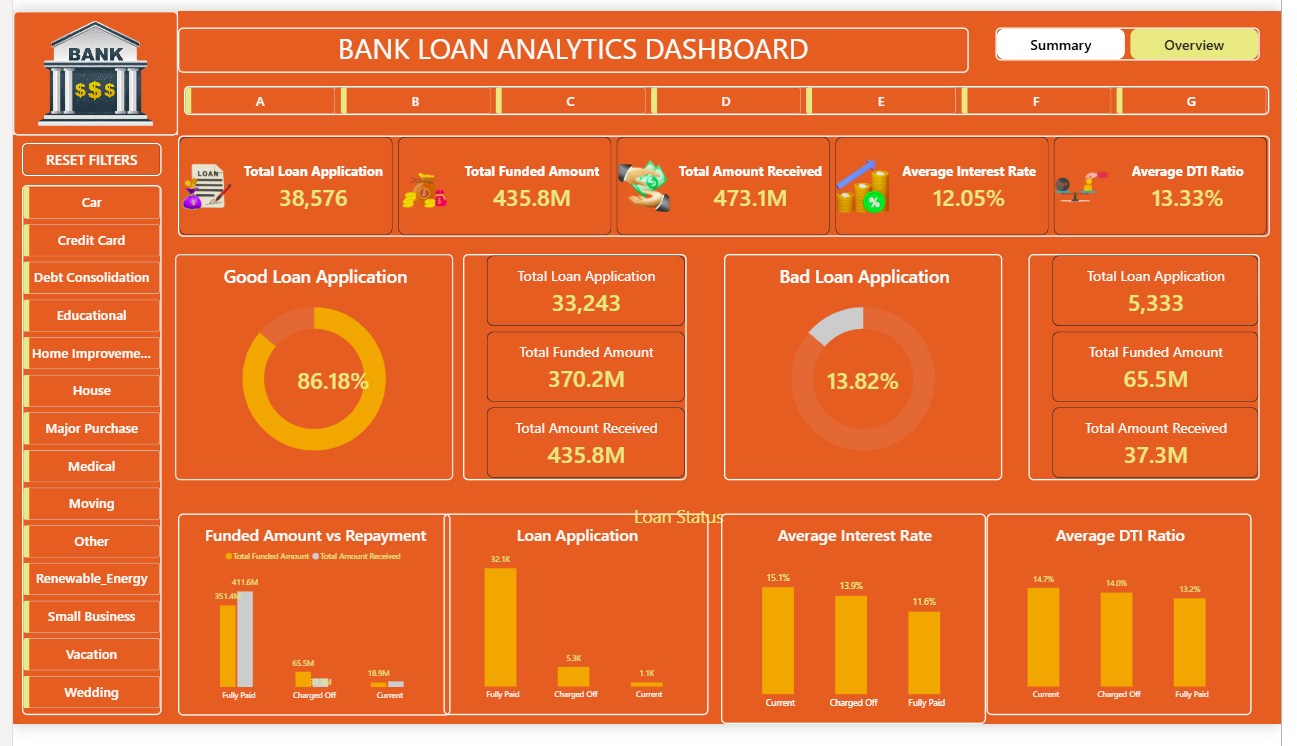

Layout of this report page (visuals, bound fields, positions):
{"tool":"powerbi","page":{"name":"Summary","canvas":[1920,1080],"ordinal":0},"visuals":[{"type":"cardVisual","fields":{"Data":["financial_loan.Total Loan Application","financial_loan.Total Funded Amount","financial_loan.Total Amount Received","financial_loan.Average Interest Rate","financial_loan.Average DTI Rate"]},"box":[250,187.8,1653.3,153.3],"z":0},{"type":"donutChart","title":"Good Loan Application","fields":{"Category":["financial_loan.Good_vs_Bad_Loan"],"Y":["financial_loan.Total Loan Application"]},"box":[245.3,368,421.4,342.9],"z":1000},{"type":"donutChart","title":"Bad Loan Application","fields":{"Category":["financial_loan.Good_vs_Bad_Loan"],"Y":["financial_loan.Total Loan Application"]},"box":[1077.1,368.6,421.4,342.9],"z":2000},{"type":"cardVisual","fields":{"Data":["financial_loan.Good Loan %"]},"box":[394.3,514.3,180,88.6],"z":3000},{"type":"cardVisual","fields":{"Data":["financial_loan.Bad Loan %"]},"box":[1197.1,514.3,180,88.6],"z":4000},{"type":"cardVisual","fields":{"Data":["financial_loan.Total Loan Application","financial_loan.Total Funded Amount","financial_loan.Total Amount Received"],"Rows":["financial_loan.Good_vs_Bad_Loan"]},"box":[681.4,368,338.4,343],"z":5000},{"type":"cardVisual","fields":{"Data":["financial_loan.Total Loan Application","financial_loan.Total Funded Amount","financial_loan.Total Amount Received"],"Rows":["financial_loan.Good_vs_Bad_Loan"]},"box":[1538.6,368.6,350,342.9],"z":6000},{"type":"clusteredColumnChart","title":"Funded Amount vs Repayment","fields":{"Category":["financial_loan.LOAN_STATUS"],"Y":["financial_loan.Total Funded Amount","financial_loan.Total Amount Received"]},"box":[250,761.4,412.9,305.7],"z":7000},{"type":"clusteredColumnChart","title":"Loan Application","fields":{"Category":["financial_loan.LOAN_STATUS"],"Y":["financial_loan.Total Loan Application"]},"box":[651.2,761.2,401.2,305],"z":8000},{"type":"textbox","box":[941.2,747.5,222.5,112.5],"z":9000},{"type":"clusteredColumnChart","title":"Average Interest Rate","fields":{"Category":["financial_loan.LOAN_STATUS"],"Y":["financial_loan.Average Interest Rate"]},"box":[1072.9,761.4,401.4,318.6],"z":10000},{"type":"clusteredColumnChart","title":"Average DTI Ratio","fields":{"Category":["financial_loan.LOAN_STATUS"],"Y":["financial_loan.Average DTI Ratio"]},"box":[1473.8,761.2,401.2,305],"z":11000},{"type":"image","box":[0,0,249.8,188.5],"z":12000},{"type":"advancedSlicerVisual","fields":{"Values":["financial_loan.PURPOSE"]},"box":[14.3,264.3,211.4,802.9],"z":13000},{"type":"advancedSlicerVisual","fields":{"Values":["financial_loan.GRADE"]},"box":[260,113,1643,44],"z":14000},{"type":"actionButton","box":[14.3,200,211.4,50],"z":15000},{"type":"textbox","box":[250,24.3,1197.1,68.6],"z":16000},{"type":"pageNavigator","box":[1488.6,24.3,400,50],"z":17000}]}

Visuals, with their boxes in screenshot pixels (x1, y1, x2, y2), scaled from the page's 1920x1080 canvas onto the 1297x746 screenshot:
cardVisual - financial_loan.Total Loan Application x financial_loan.Total Funded Amount: (169,130,1286,236)
"Good Loan Application" donutChart: (166,254,450,491)
"Bad Loan Application" donutChart: (728,255,1012,491)
cardVisual - financial_loan.Good Loan %: (266,355,388,416)
cardVisual - financial_loan.Bad Loan %: (809,355,930,416)
cardVisual - financial_loan.Total Loan Application x financial_loan.Total Funded Amount: (460,254,689,491)
cardVisual - financial_loan.Total Loan Application x financial_loan.Total Funded Amount: (1039,255,1276,491)
"Funded Amount vs Repayment" clusteredColumnChart: (169,526,448,737)
"Loan Application" clusteredColumnChart: (440,526,711,736)
textbox: (636,516,786,594)
"Average Interest Rate" clusteredColumnChart: (725,526,996,745)
"Average DTI Ratio" clusteredColumnChart: (996,526,1267,736)
image: (0,0,169,130)
advancedSlicerVisual - financial_loan.PURPOSE: (10,183,152,737)
advancedSlicerVisual - financial_loan.GRADE: (176,78,1286,108)
actionButton: (10,138,152,173)
textbox: (169,17,978,64)
pageNavigator: (1006,17,1276,51)
